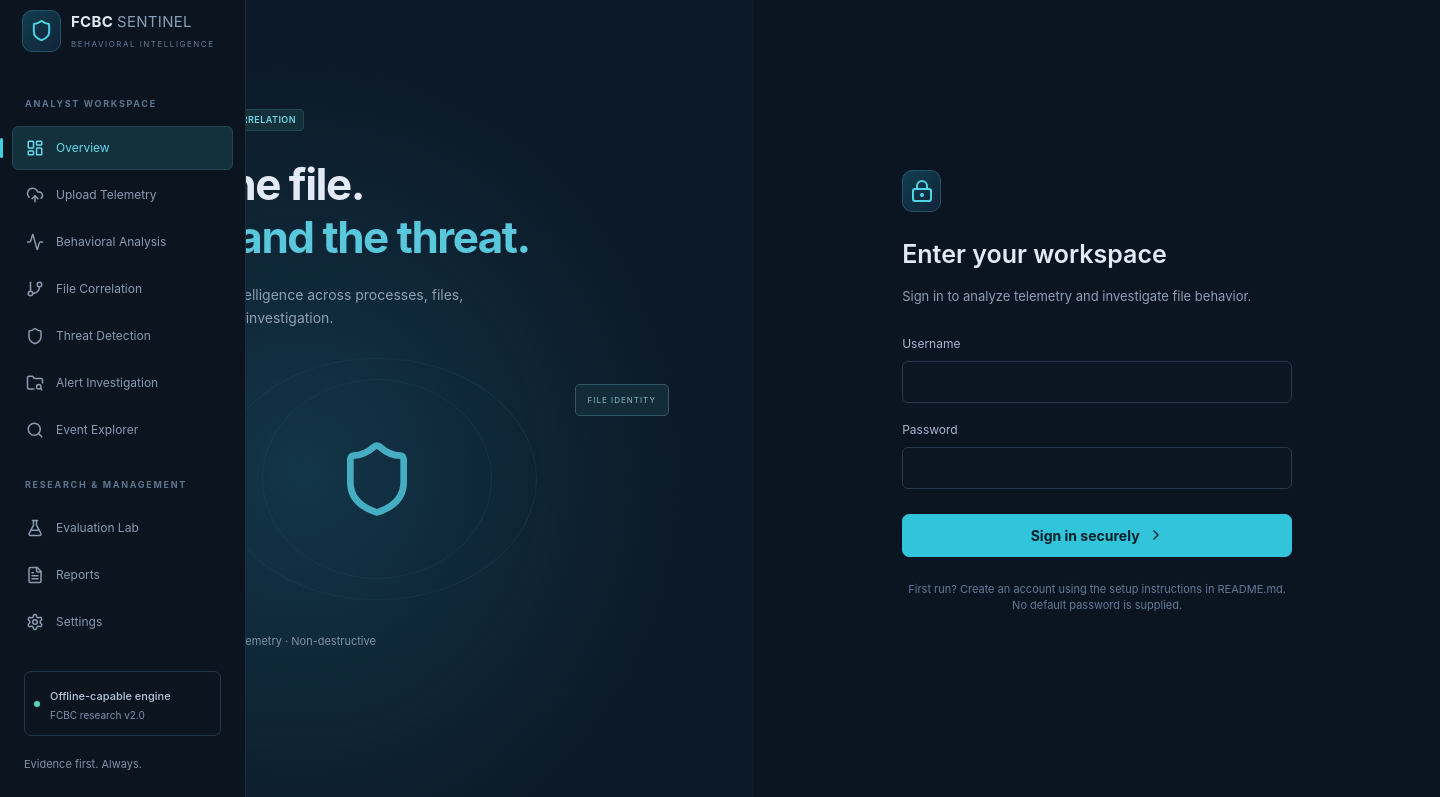
Test case: authenticated navigation › renders validation and simulation controls without starting analysis implicitly
The image size is (1440, 797).
Click the button "Upload Telemetry" at point(122, 194), box 12,172 -> 233,216
(page scrolled)
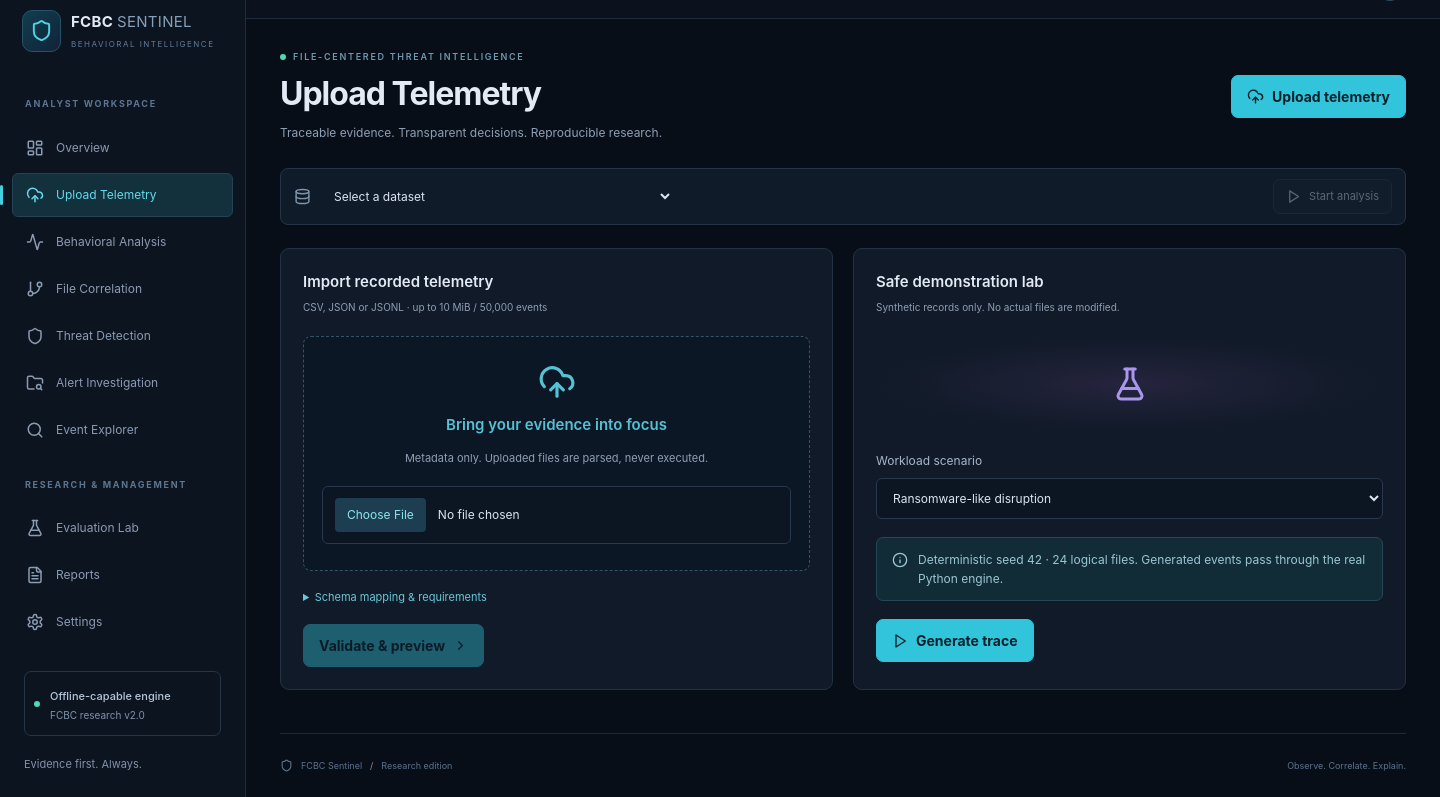
Now the button "Validate & preview" is disabled, box 303,624 -> 484,667
